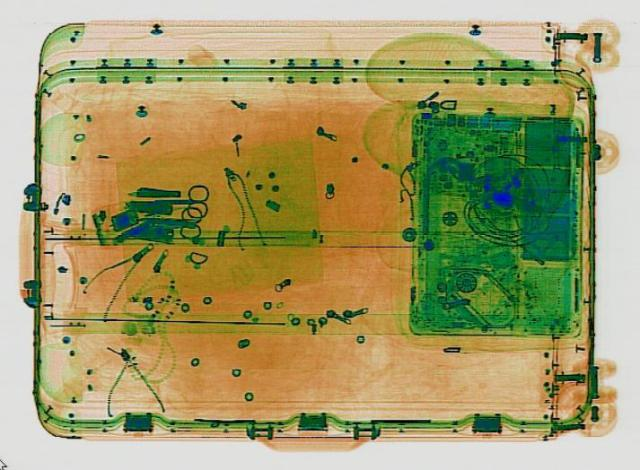Scissors: (138, 181, 210, 215), (136, 205, 204, 239)
